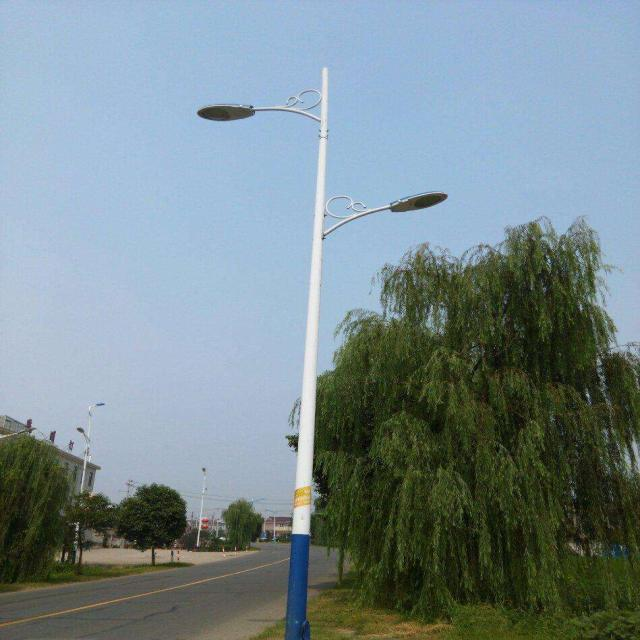pole: (272, 133, 334, 632)
